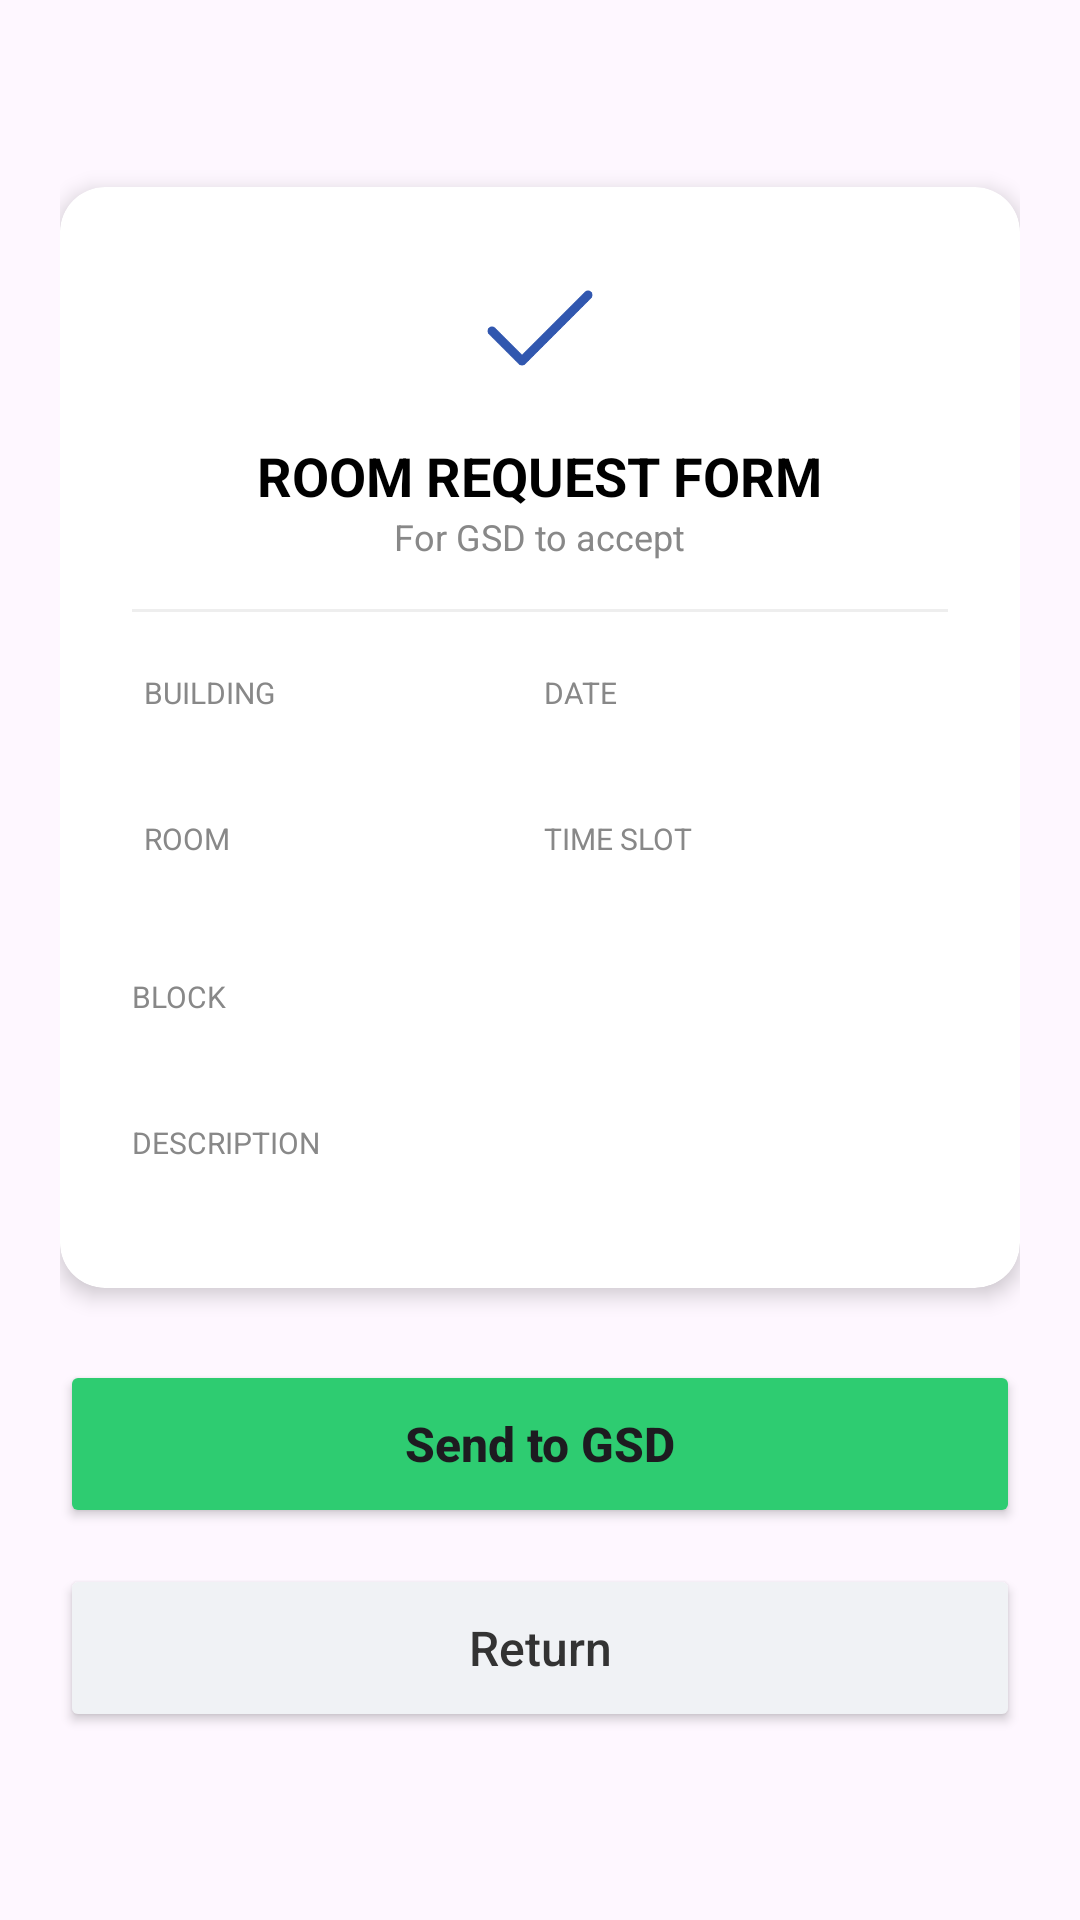

Where icons sit on this 1080x1920 app screen, as [left=x1, top=y1, right=x2, bottom=y2]:
Accepted Icon: [left=487, top=290, right=593, bottom=366]
